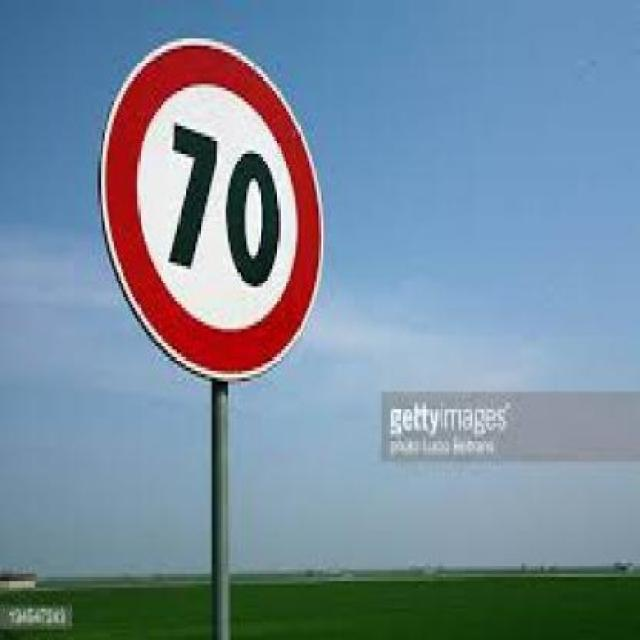forb_speed_over_70: (111, 42, 323, 381)
